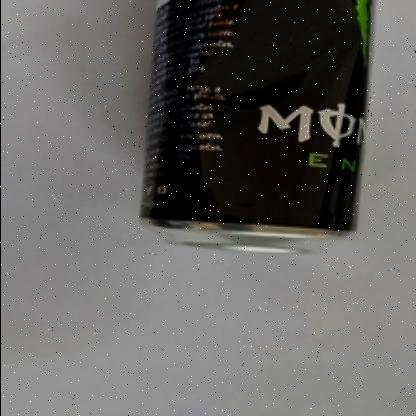Can: (135, 0, 373, 258)
